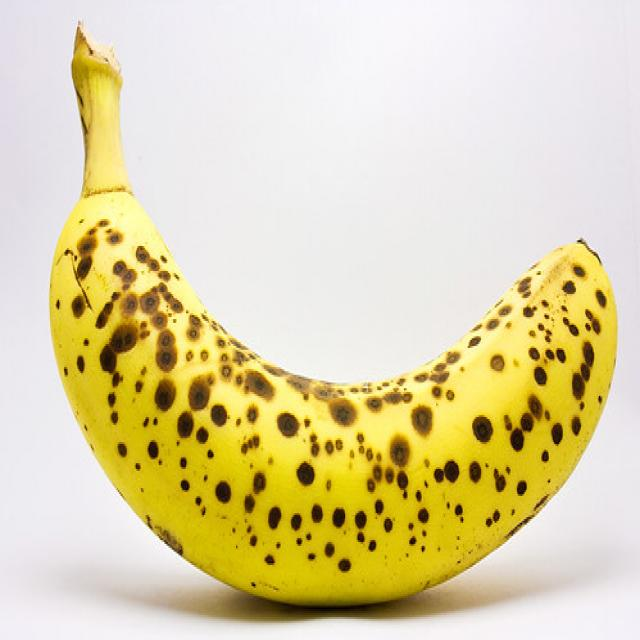Banana: (53, 34, 621, 606)
